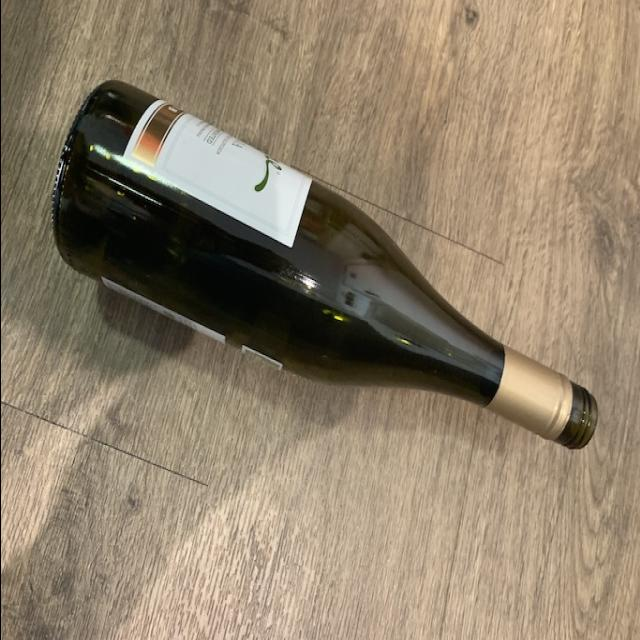Glass Bottle: (42, 78, 598, 448)
